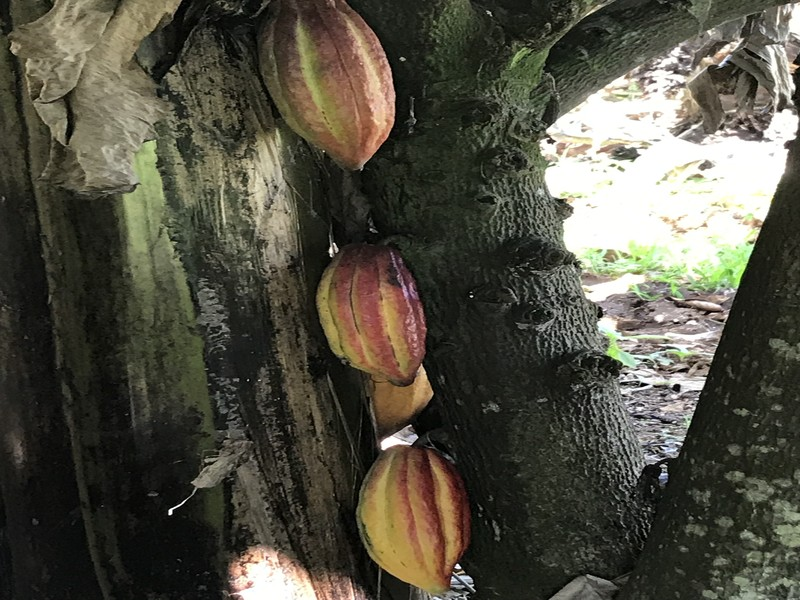Cacaopod: (355, 445, 475, 593), (315, 242, 425, 388)
